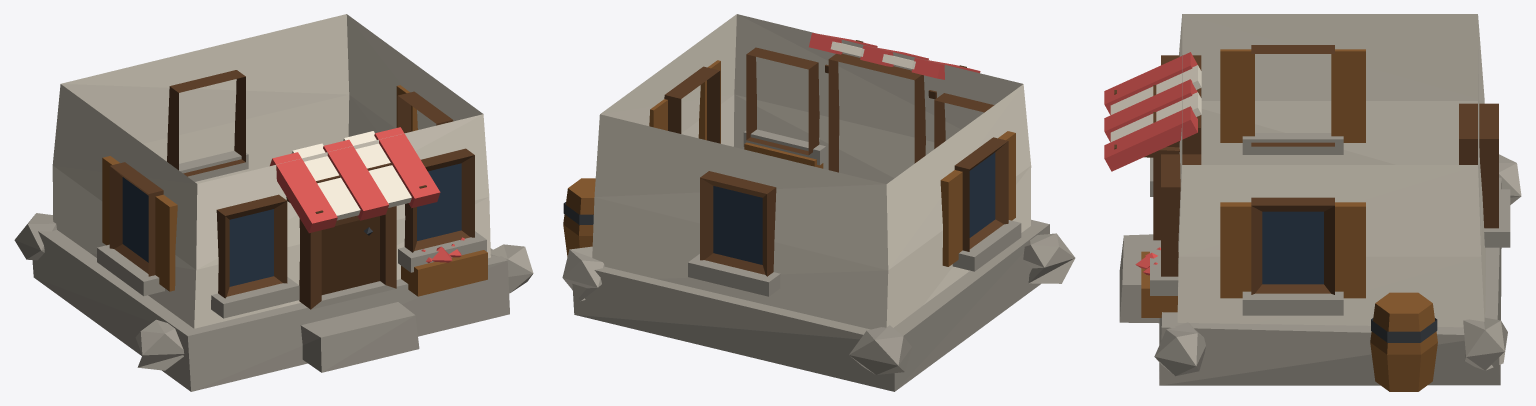
File: house_ground_b.glb
3 views of the same model, side by side, from view 1: azimuth 30°, elevation 25°; view 2: azimuth 150°, elevation 25°; view 3: azimuth 270°, elevation 25° (orthographic). The views are drawn at different scales.
Parts seen in each view (by area): view 1: house_ground_b; view 2: house_ground_b; view 3: house_ground_b.
Boxes of the visible parts, <box> form: house_ground_b: <box>14,14,533,391</box>; house_ground_b: <box>562,14,1075,391</box>; house_ground_b: <box>1104,14,1521,391</box>.
Bounding box in the file's own units: 0.8158 × 0.3866 × 0.6767.
